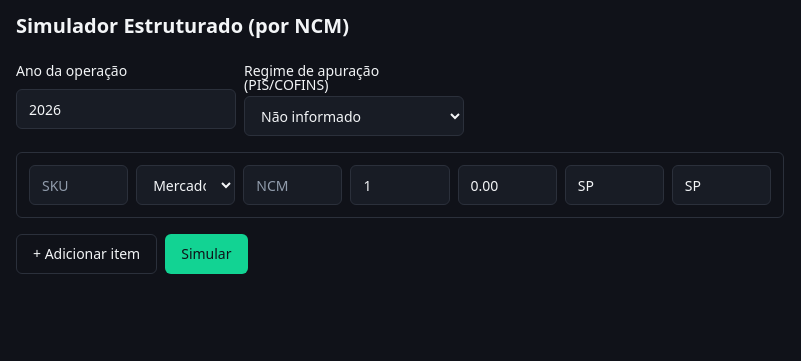
Scenario: SimuladorPage › AT-002: exibe mensagem clara quando a API retorna 401
Click the button "Simular" at [206, 254], box [165,234,248,274]
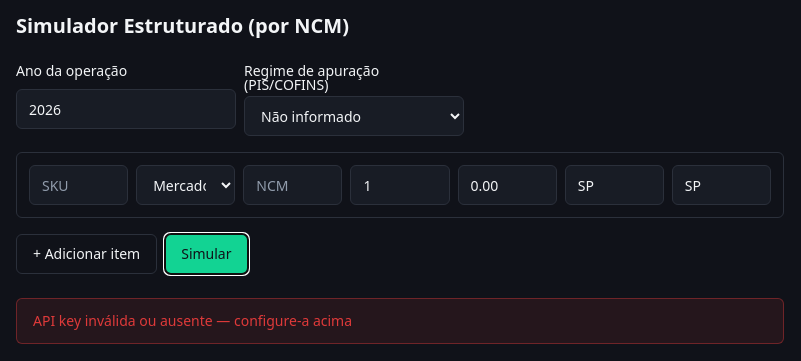
Check: the message shows "configure-a acima", box [33,311,352,330]
